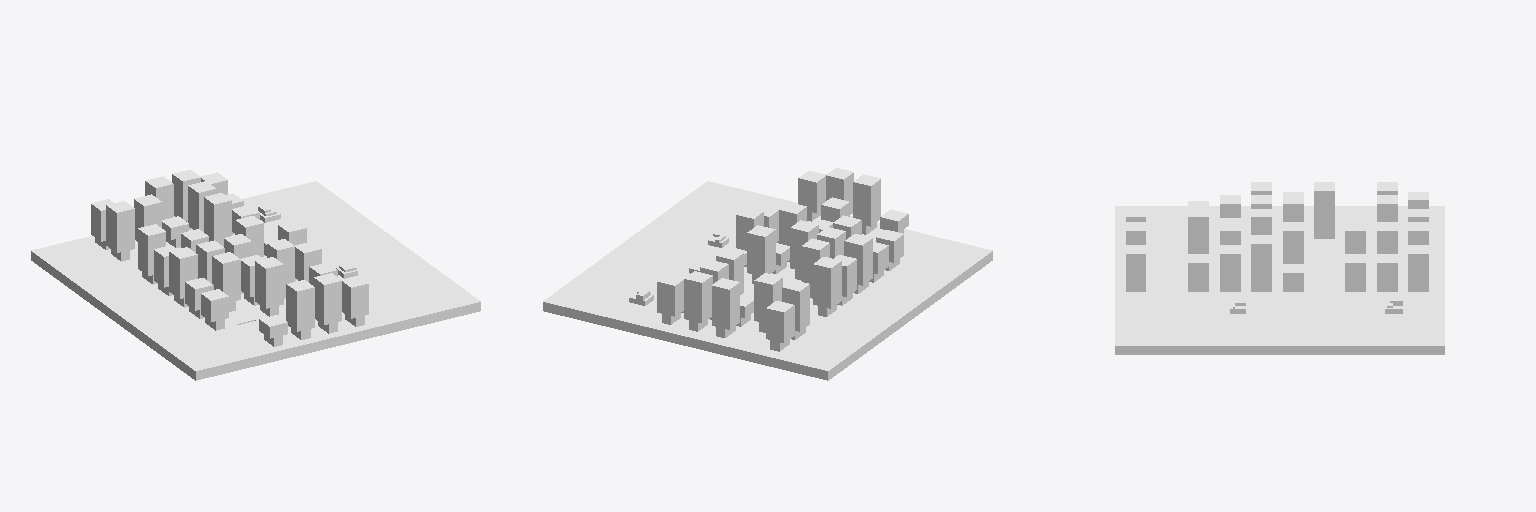
The model's file is median3.obj.
3 renders of one model, left to right at view 1: azimuth 30°, elevation 25°; view 2: azimuth 150°, elevation 25°; view 3: azimuth 270°, elevation 25°, orthographic.
Bounding box in the file's own units: 126 × 25 × 126.